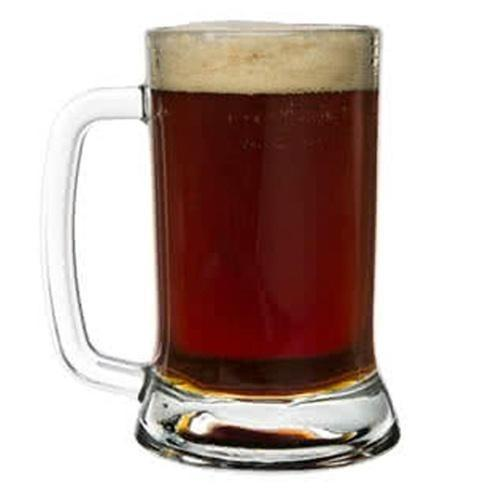glass-mug: (30, 12, 400, 476)
